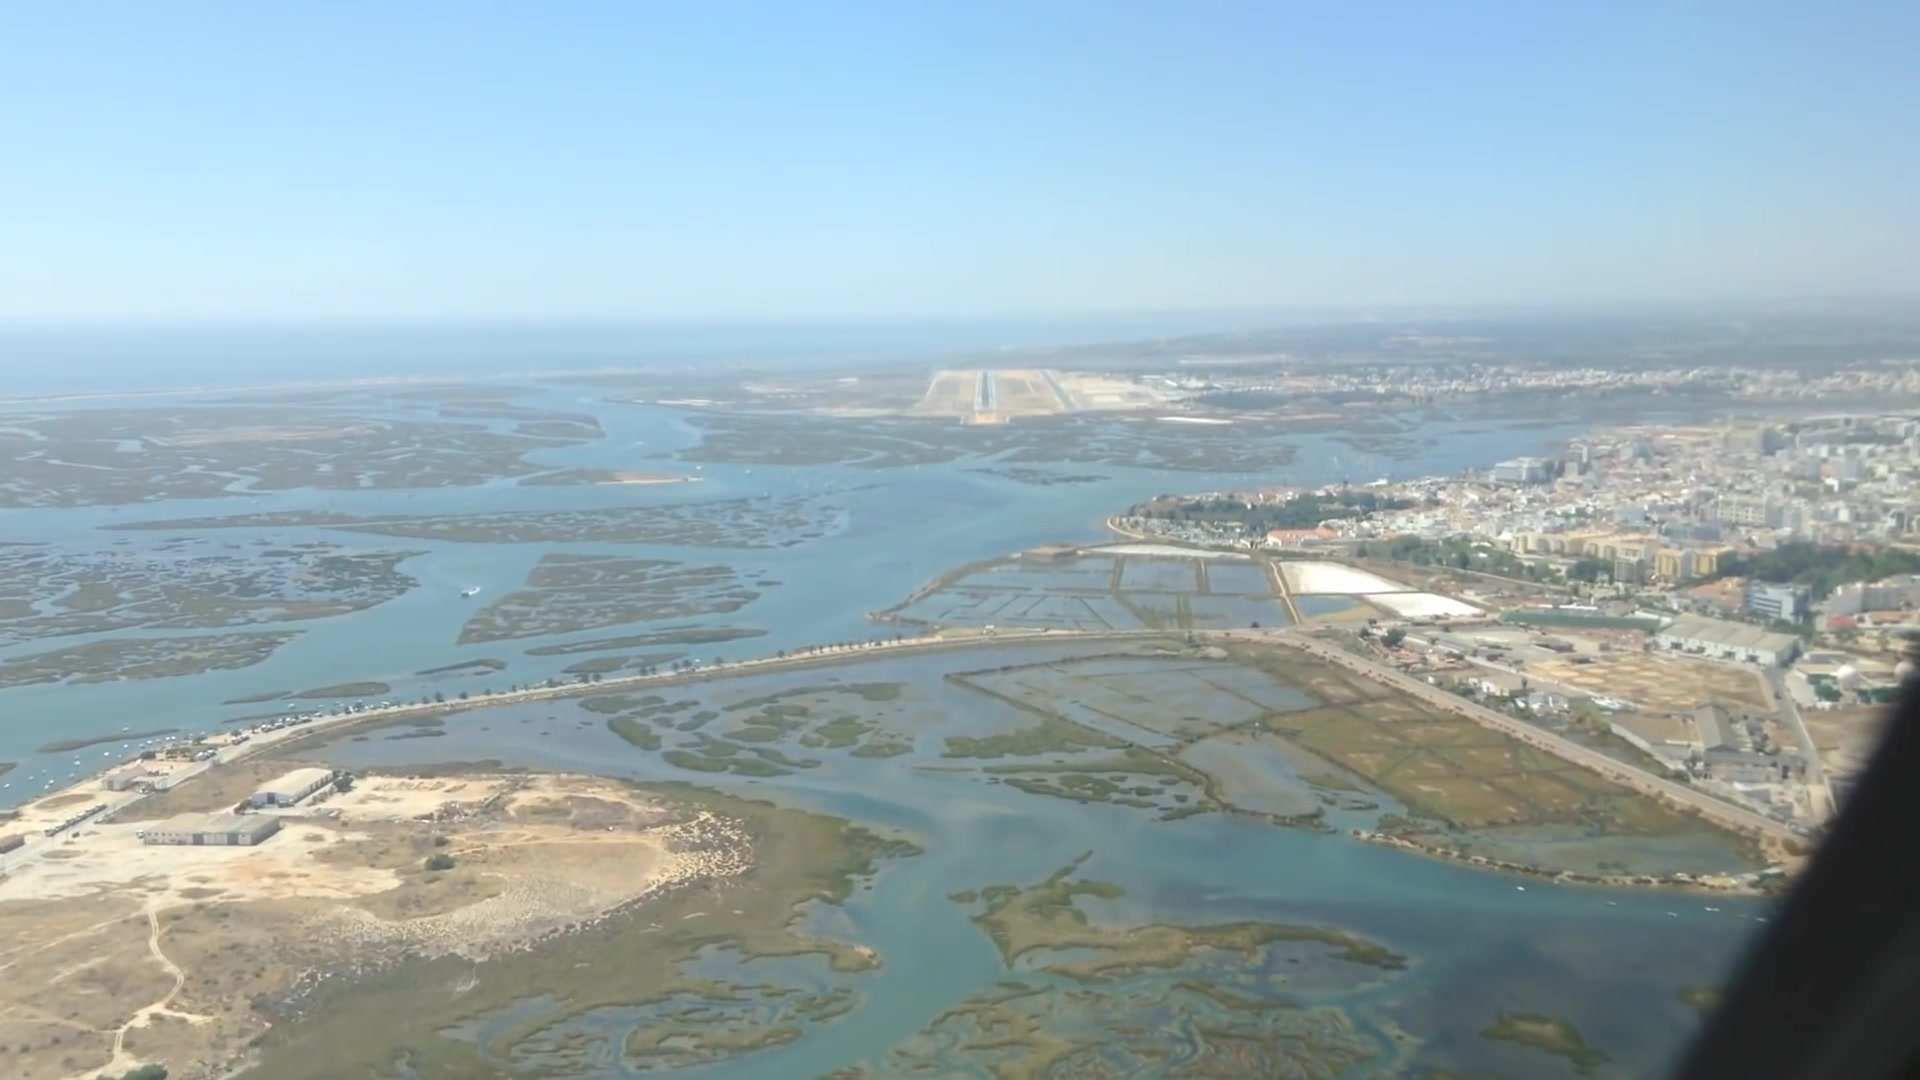runway: (1039, 369, 1083, 411), (973, 369, 998, 417)
